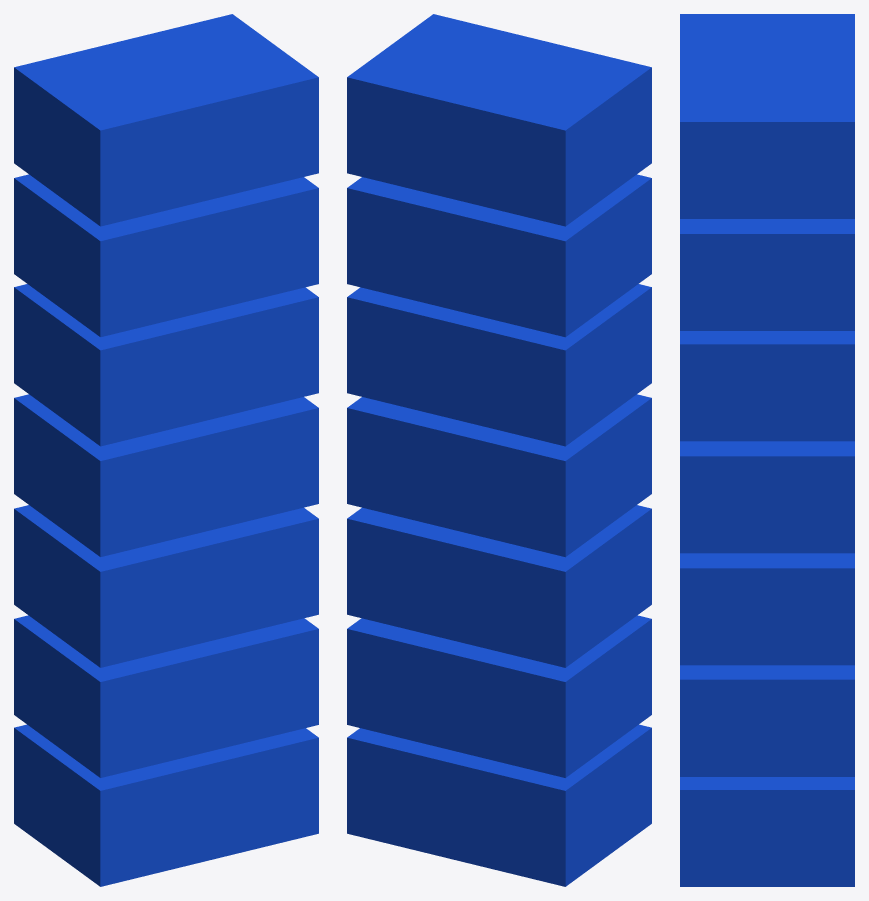
File: bookshelf_3.glb
3 views of the same model, side by side, from view 1: azimuth 30°, elevation 25°; view 2: azimuth 150°, elevation 25°; view 3: azimuth 270°, elevation 25° (orthographic).
Parts seen in each view (by area): view 1: bookshelf_3_0263.001; view 2: bookshelf_3_0263.001; view 3: bookshelf_3_0263.001.
Part boxes in pixels (<box>): bookshelf_3_0263.001: <box>14,14,318,886</box>; bookshelf_3_0263.001: <box>347,14,651,886</box>; bookshelf_3_0263.001: <box>680,14,854,886</box>.
Size of the model in its own units: 0.5404 by 1.79 by 0.3705.
